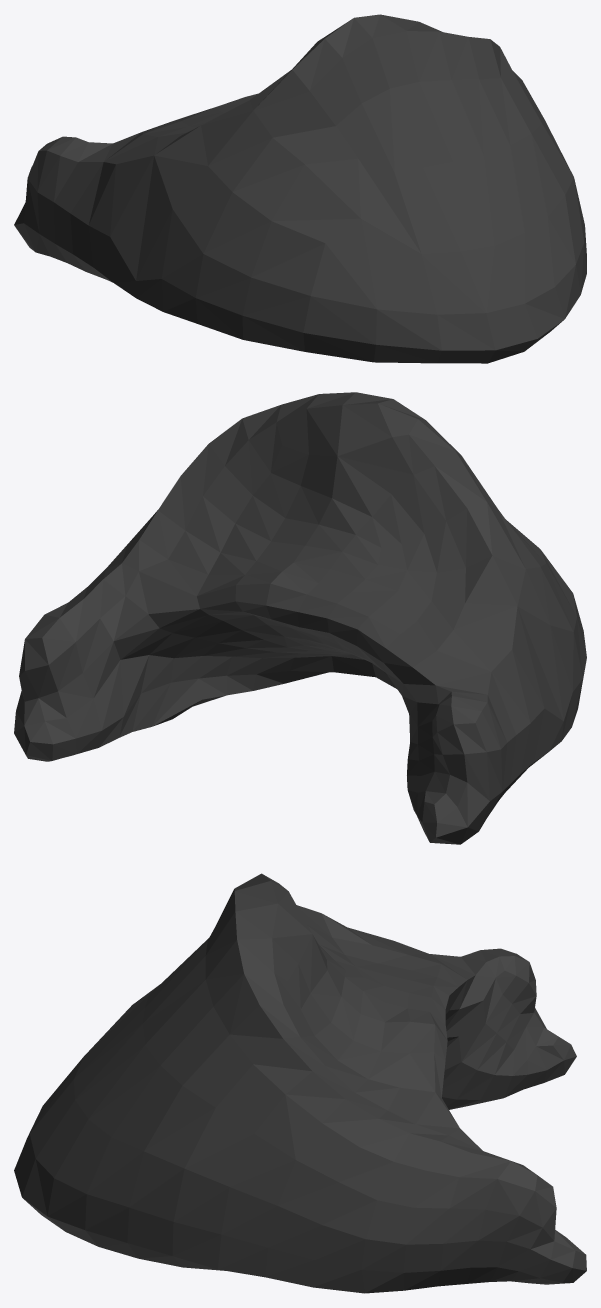
3 views of the same model, one above another, from view 1: azimuth 30°, elevation 25°; view 2: azimuth 150°, elevation 25°; view 3: azimuth 270°, elevation 25° (orthographic). The views are drawn at different scales.
Visible parts, largest first — view 1: FL_P3_R; view 2: FL_P3_R; view 3: FL_P3_R.
Boxes of the visible parts, <box> form: FL_P3_R: <box>14,14,586,363</box>; FL_P3_R: <box>14,392,586,844</box>; FL_P3_R: <box>14,873,586,1293</box>.
Bounding box in the file's own units: 0.1027 × 0.0617 × 0.1051.
1 material, 1 textured.
